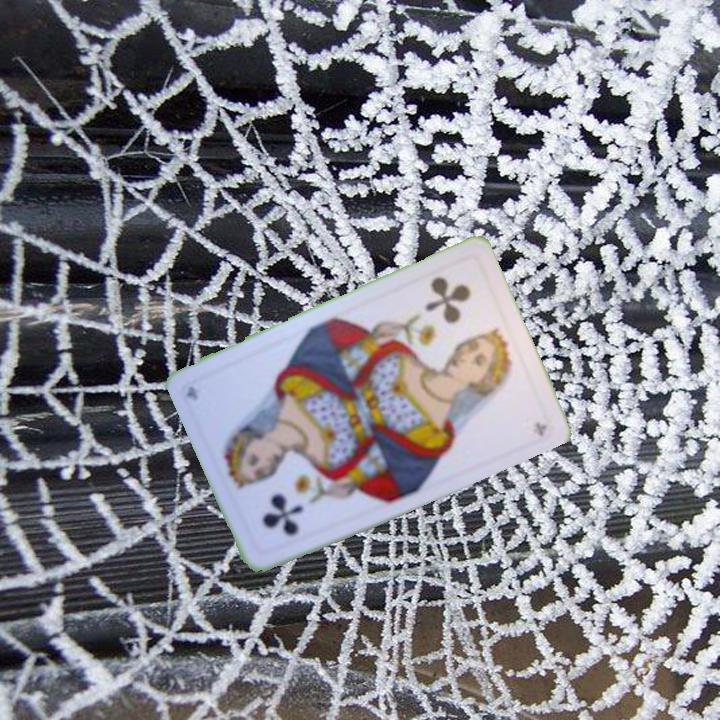c_q.png: (398, 253, 516, 378), (221, 435, 338, 559)
